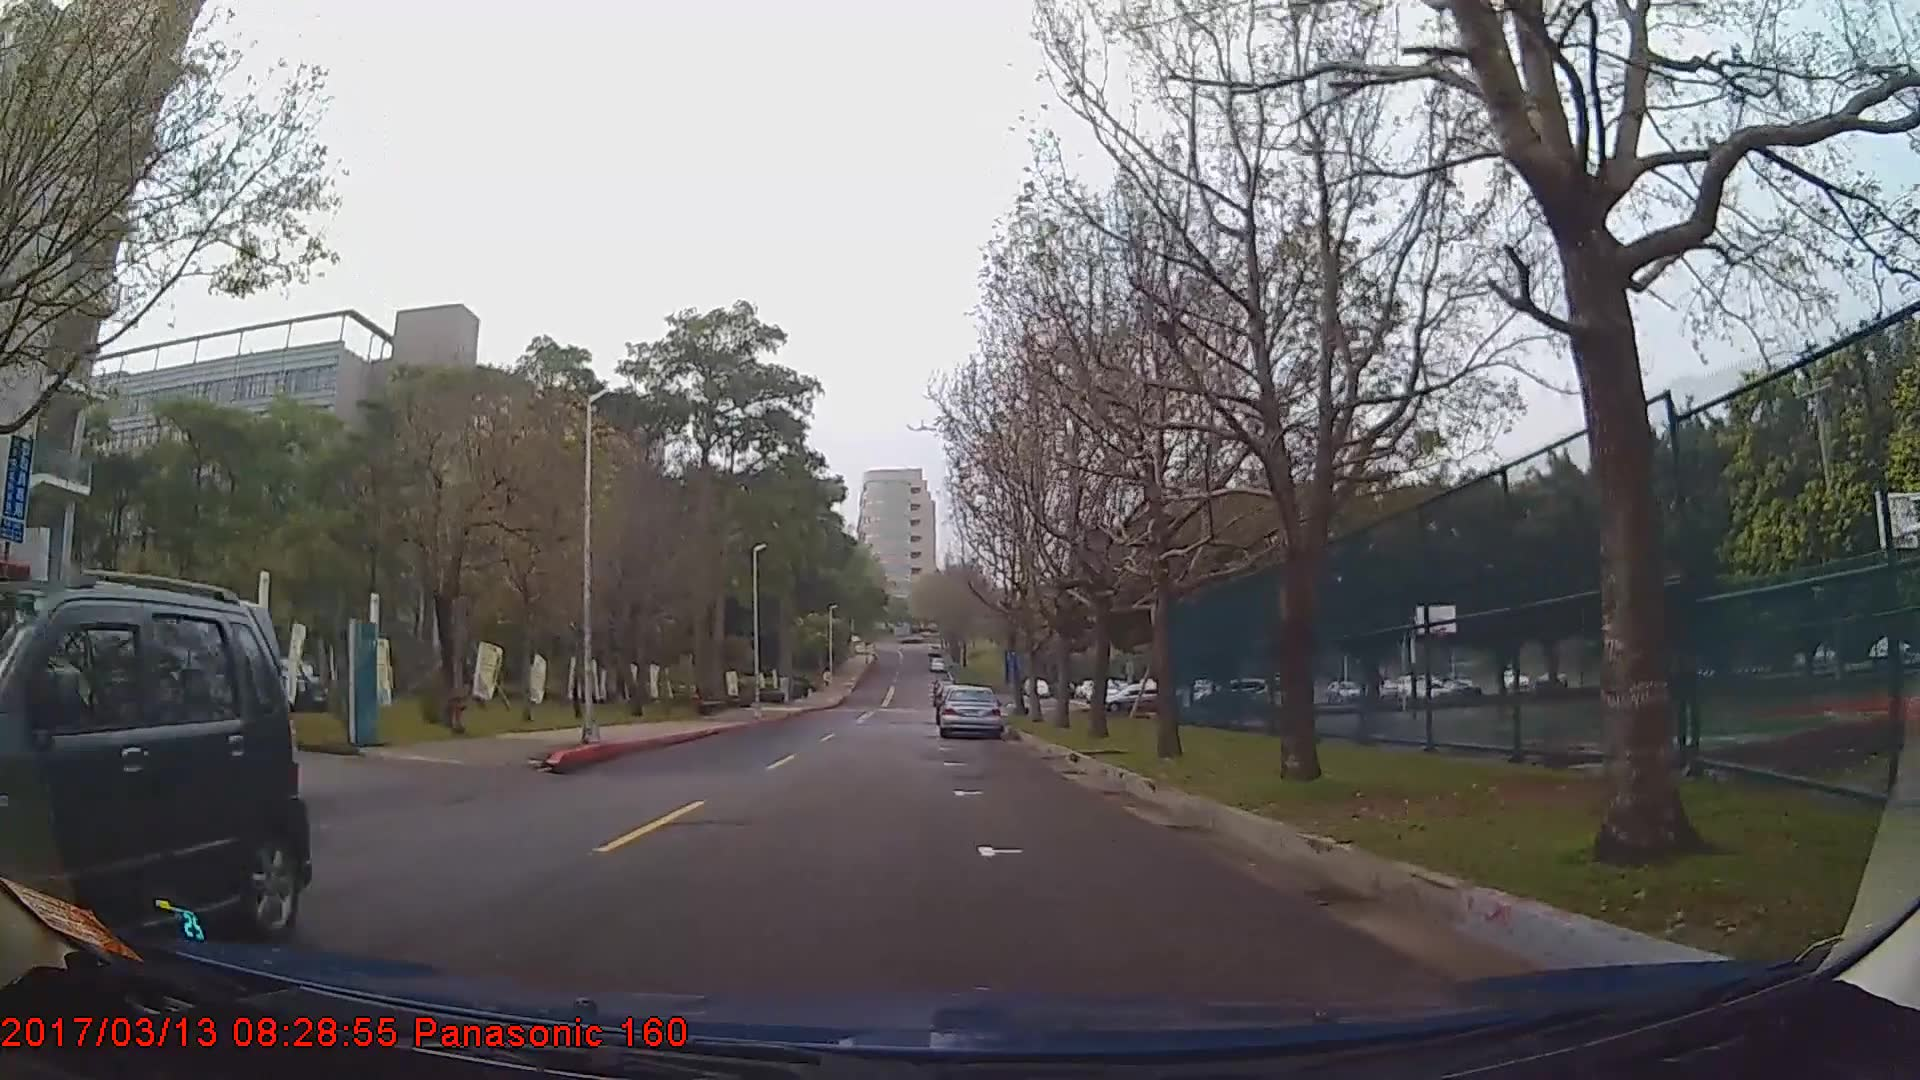vehicle: (0, 574, 303, 968), (936, 684, 1004, 741)
